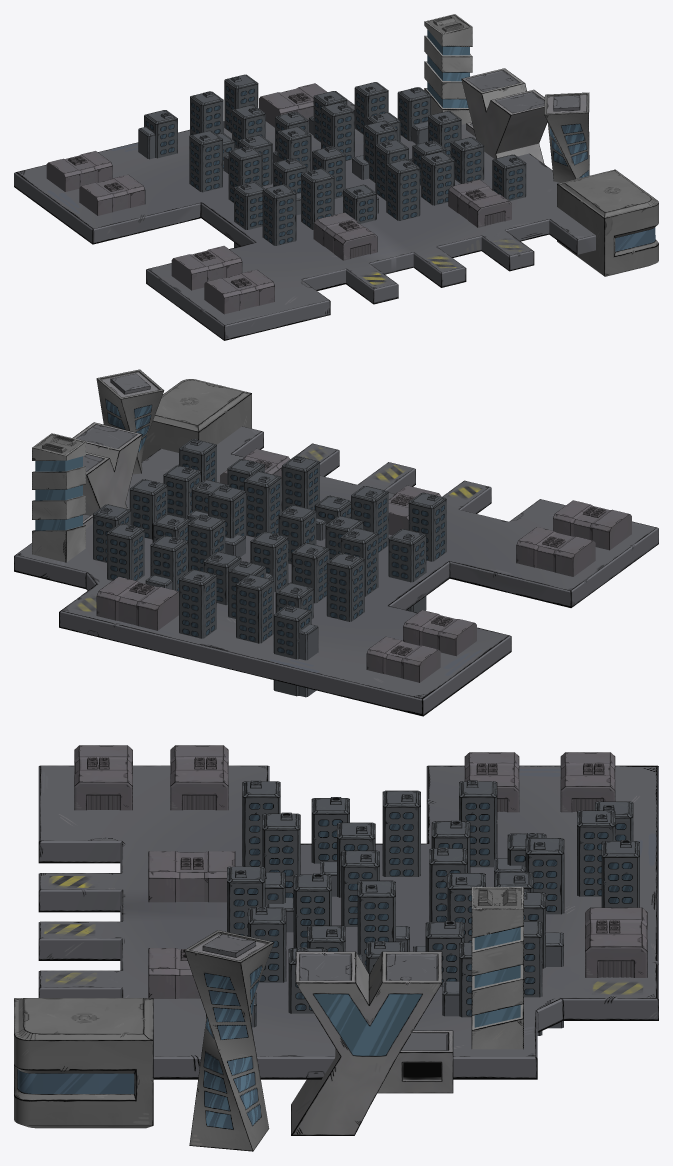
The model's file is spaceport.gltf.
3 renders of one model, top to bottom at view 1: azimuth 30°, elevation 25°; view 2: azimuth 150°, elevation 25°; view 3: azimuth 270°, elevation 25°, orthographic. The views are drawn at different scales.
Parts seen in each view (by area): view 1: spaceport; view 2: spaceport; view 3: spaceport.
Boxes of the visible parts, x1,y1,x2,y2 form: spaceport: (14,14,658,340); spaceport: (14,369,658,716); spaceport: (14,745,658,1151).
Size of the model in its own units: 15.7 by 5.07 by 13.55.
9 materials, 9 textured.
